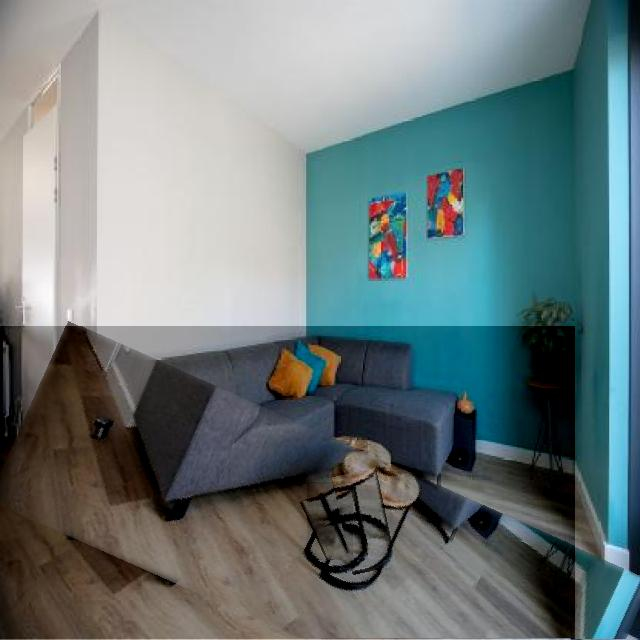floor: (0, 326, 575, 639), (308, 483, 365, 560), (353, 469, 390, 574)
